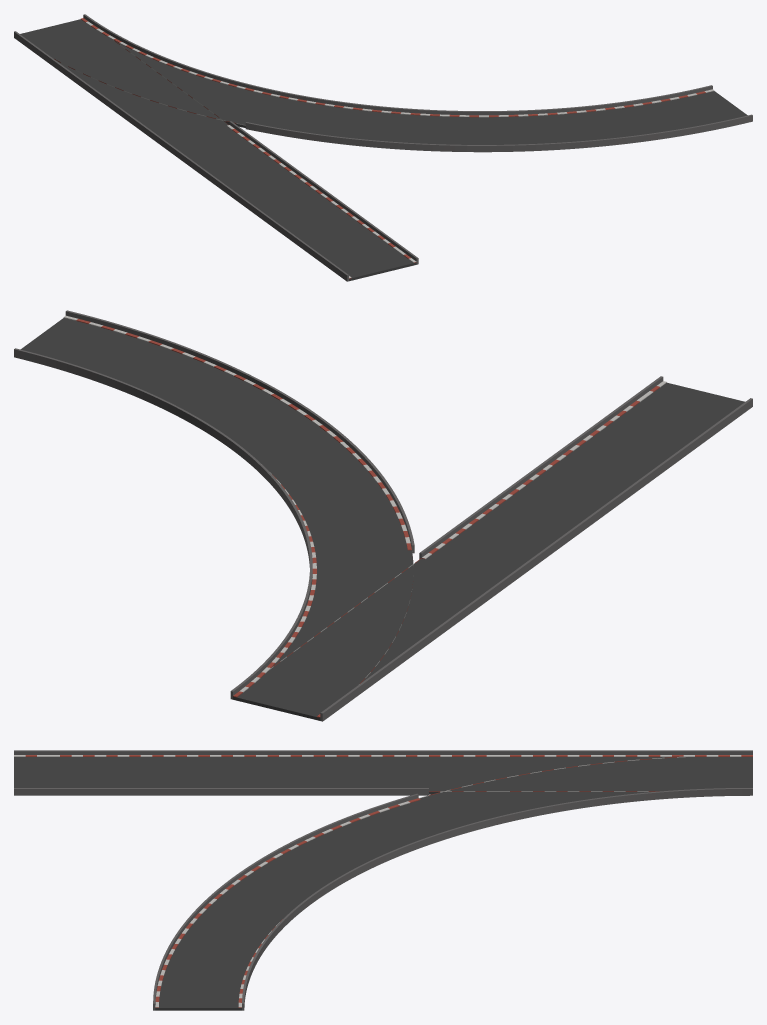
The model's file is tp-split-large-a.glb.
3 views of the same model, one above another, from view 1: azimuth 30°, elevation 25°; view 2: azimuth 150°, elevation 25°; view 3: azimuth 270°, elevation 25° (orthographic). The views are drawn at different scales.
Visible parts, largest first — view 1: tp-split-large-a; view 2: tp-split-large-a; view 3: tp-split-large-a.
Part boxes in pixels (left/top/right/bottom): tp-split-large-a: left=14, top=14, right=752, bottom=281; tp-split-large-a: left=14, top=310, right=752, bottom=721; tp-split-large-a: left=14, top=750, right=752, bottom=1010.
Size of what is drawn, in the model's own units: 101 by 1.3 by 125.
Materials: 1 (1 with a texture image).
